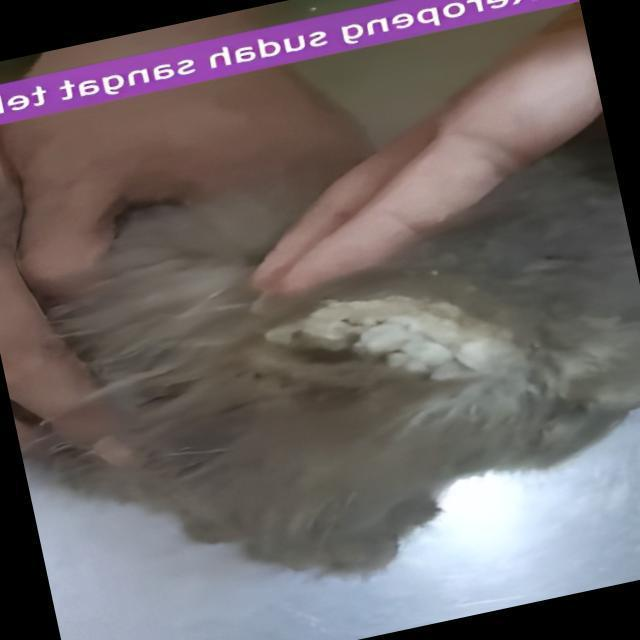ghe: (260, 285, 510, 405)
